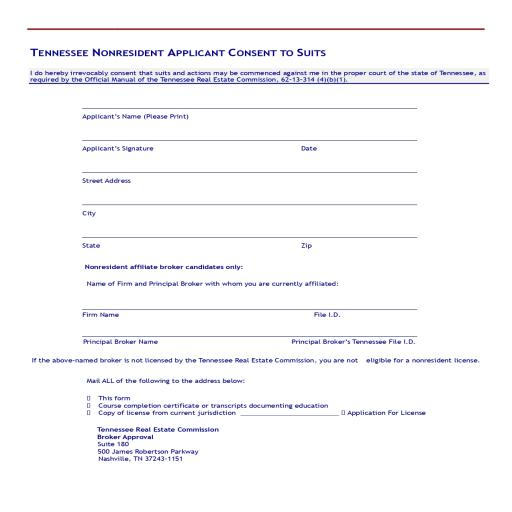Address: (79, 175, 136, 188)
Signature: (80, 142, 158, 158)
date: (296, 141, 325, 154)
free_text: (80, 111, 195, 125), (290, 338, 418, 348), (81, 339, 163, 348), (81, 309, 128, 322), (294, 240, 315, 254), (312, 311, 348, 319), (81, 240, 104, 250), (82, 207, 98, 219)
